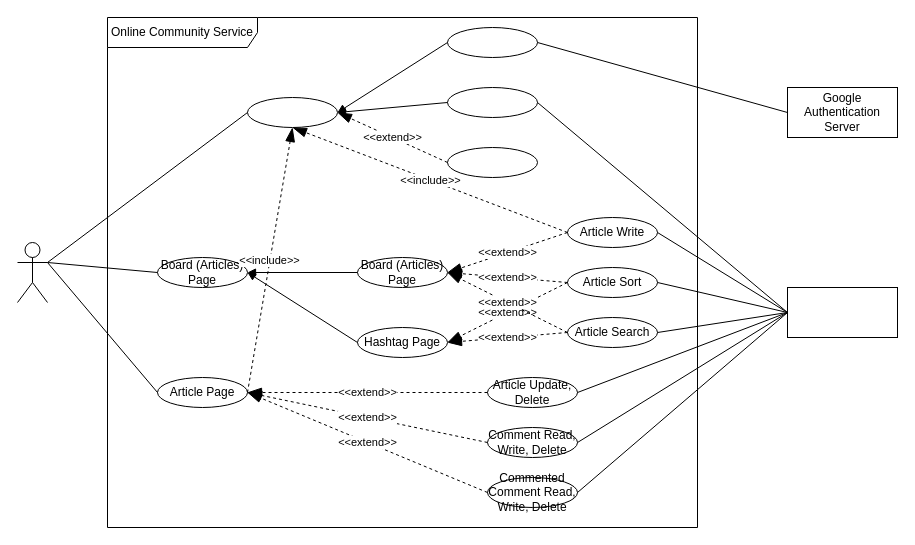
Some shapes in this 915 by 545 pixel diagram are drawn without their labels. Each missing label, with the centre of its shape:
"DB" belongs at (x=842, y=312).
"DB Authentication" belongs at (x=492, y=102).
"Google Authentication" belongs at (x=492, y=42).
"Log-In" belongs at (x=292, y=112).
"Log-In Failure" belongs at (x=492, y=162).
"User" belongs at (x=32, y=272).
